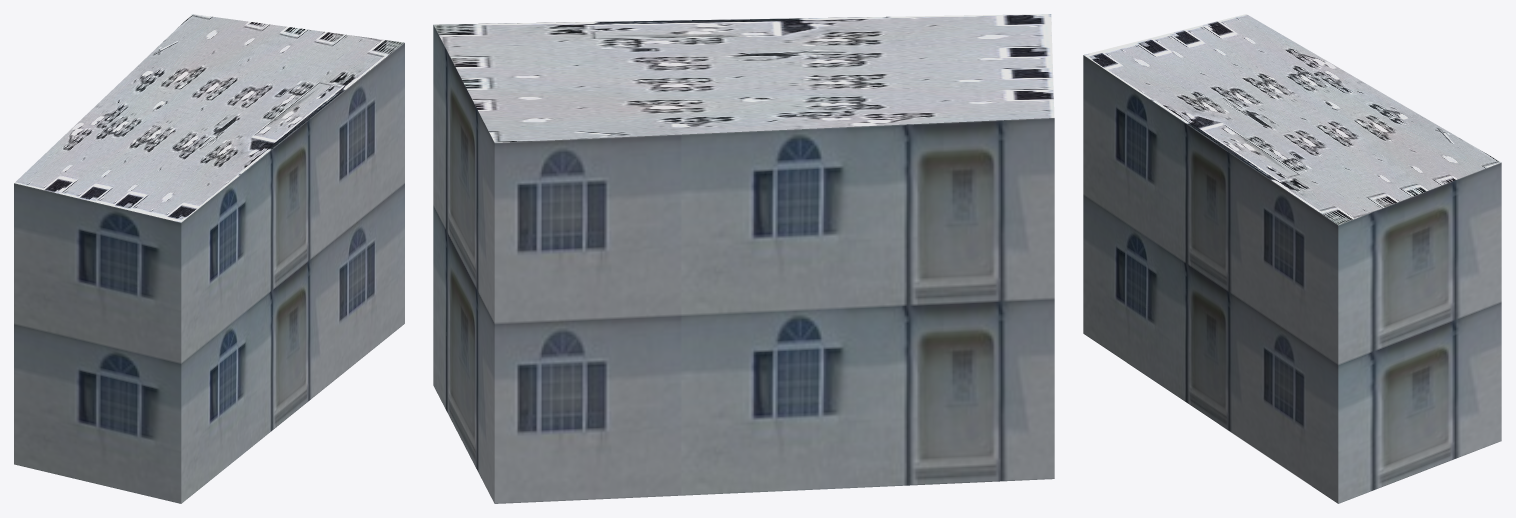
Rendered from ResTex__1589.fbx.
3 views of the same model, side by side, from view 1: azimuth 30°, elevation 25°; view 2: azimuth 150°, elevation 25°; view 3: azimuth 270°, elevation 25° (orthographic). The views are drawn at different scales.
Visible parts, largest first — view 1: CityEngineMaterial_17_m, CityEngineMaterial_4_m; view 2: CityEngineMaterial_17_m, CityEngineMaterial_4_m; view 3: CityEngineMaterial_17_m, CityEngineMaterial_4_m.
Boxes of the visible parts, x1,y1,x2,y2 form: CityEngineMaterial_17_m: (14, 43, 404, 503); CityEngineMaterial_4_m: (14, 14, 404, 222); CityEngineMaterial_17_m: (433, 25, 1054, 503); CityEngineMaterial_4_m: (434, 14, 1054, 142); CityEngineMaterial_17_m: (1083, 55, 1501, 503); CityEngineMaterial_4_m: (1084, 14, 1501, 225).
Bounding box in the file's own units: 9.76 × 6 × 8.17.
Materials: 2 (2 with a texture image).
